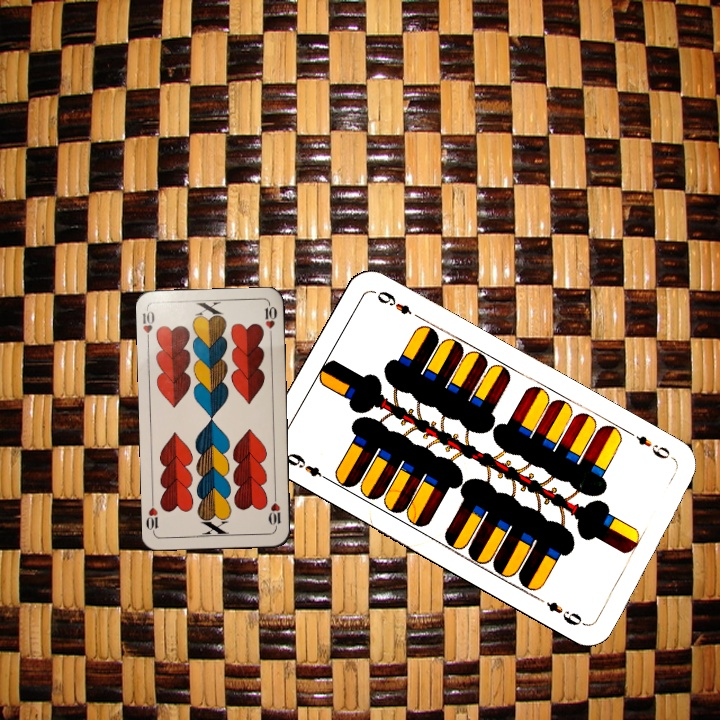E9: (625, 427, 679, 465), (280, 449, 334, 485)
H10: (265, 490, 284, 531), (139, 305, 157, 346)
